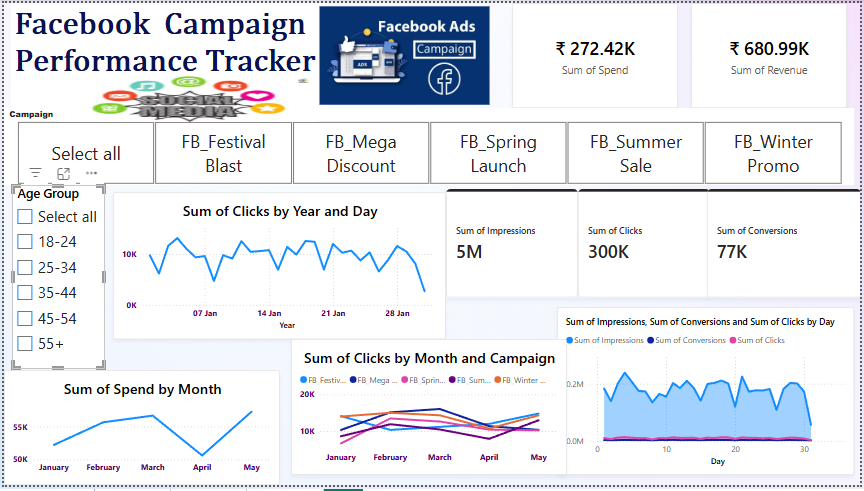

This screenshot's page, from the dashboard's own definition file:
{"tool":"powerbi","page":{"name":"Page 1","canvas":[1280,720],"ordinal":0},"visuals":[{"type":"textbox","box":[10.5,0,473.5,156.8],"z":0},{"type":"image","box":[412.3,0,372,156.8],"z":1000},{"type":"card","fields":{"Values":["Sum(Sheet1.Spend)"]},"box":[758.8,0,248,156.8],"z":2000},{"type":"card","fields":{"Values":["Sum(Sheet1.Revenue)"]},"box":[1026.2,0,233,156.8],"z":3000},{"type":"slicer","fields":{"Values":["Sheet1.Campaign"]},"box":[0,156.8,1269.7,115],"z":4000},{"type":"slicer","fields":{"Values":["Sheet1.Age Group"]},"box":[12,271.9,138.9,274.9],"z":5000},{"type":"areaChart","fields":{"Category":["Sheet1.Date.Variation.Date Hierarchy.Day"],"Y":["Sum(Sheet1.Impressions)","Sum(Sheet1.Conversions)","Sum(Sheet1.Clicks)"]},"box":[826.1,454.1,443.7,251],"z":6000},{"type":"cardVisual","fields":{"Data":["Sum(Sheet1.Impressions)"]},"box":[660.2,277.8,197.2,162.8],"z":7000},{"type":"cardVisual","fields":{"Data":["Sum(Sheet1.Clicks)"]},"box":[857.4,277.8,197.2,162.8],"z":8000},{"type":"cardVisual","fields":{"Data":["Sum(Sheet1.Conversions)"]},"box":[1050.1,277.8,230,162.8],"z":9000},{"type":"lineChart","fields":{"Category":["Sheet1.Date.Variation.Date Hierarchy.Year","Sheet1.Date.Variation.Date Hierarchy.Day"],"Y":["Sum(Sheet1.Clicks)"]},"box":[162.8,282.3,497.4,219.6],"z":10000},{"type":"lineChart","fields":{"Category":["Sheet1.Date.Variation.Date Hierarchy.Month"],"Y":["Sum(Sheet1.Spend)"]},"box":[0,548.2,412.3,171.8],"z":11000},{"type":"lineChart","fields":{"Category":["Sheet1.Date.Variation.Date Hierarchy.Month"],"Y":["Sum(Sheet1.Clicks)"],"Series":["Sheet1.Campaign"]},"box":[428.7,501.9,412.3,203.2],"z":12000},{"type":"image","box":[80.7,104.6,391.4,77.7],"z":13000}]}

Visuals, with their boxes in screenshot pixels (x1, y1, x2, y2), scaled from the page's 1280x720 canvas onto the 864x491 screenshot:
textbox: x1=7 y1=0 x2=327 y2=107
image: x1=278 y1=0 x2=529 y2=107
card - Sum(Sheet1.Spend): x1=512 y1=0 x2=680 y2=107
card - Sum(Sheet1.Revenue): x1=693 y1=0 x2=850 y2=107
slicer - Sheet1.Campaign: x1=0 y1=107 x2=857 y2=185
slicer - Sheet1.Age Group: x1=8 y1=185 x2=102 y2=373
areaChart - Sheet1.Date.Variation.Date Hierarchy.Day x Sum(Sheet1.Impressions): x1=558 y1=310 x2=857 y2=481
cardVisual - Sum(Sheet1.Impressions): x1=446 y1=189 x2=579 y2=300
cardVisual - Sum(Sheet1.Clicks): x1=579 y1=189 x2=712 y2=300
cardVisual - Sum(Sheet1.Conversions): x1=709 y1=189 x2=863 y2=300
lineChart - Sheet1.Date.Variation.Date Hierarchy.Year x Sheet1.Date.Variation.Date Hierarchy.Day: x1=110 y1=193 x2=446 y2=342
lineChart - Sheet1.Date.Variation.Date Hierarchy.Month x Sum(Sheet1.Spend): x1=0 y1=374 x2=278 y2=490
lineChart - Sheet1.Date.Variation.Date Hierarchy.Month x Sum(Sheet1.Clicks): x1=289 y1=342 x2=568 y2=481
image: x1=54 y1=71 x2=319 y2=124
